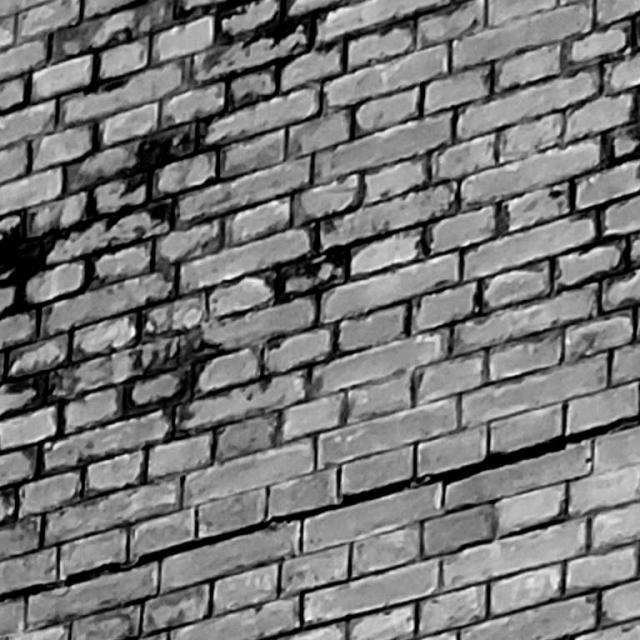crack: (1, 415, 639, 603)
